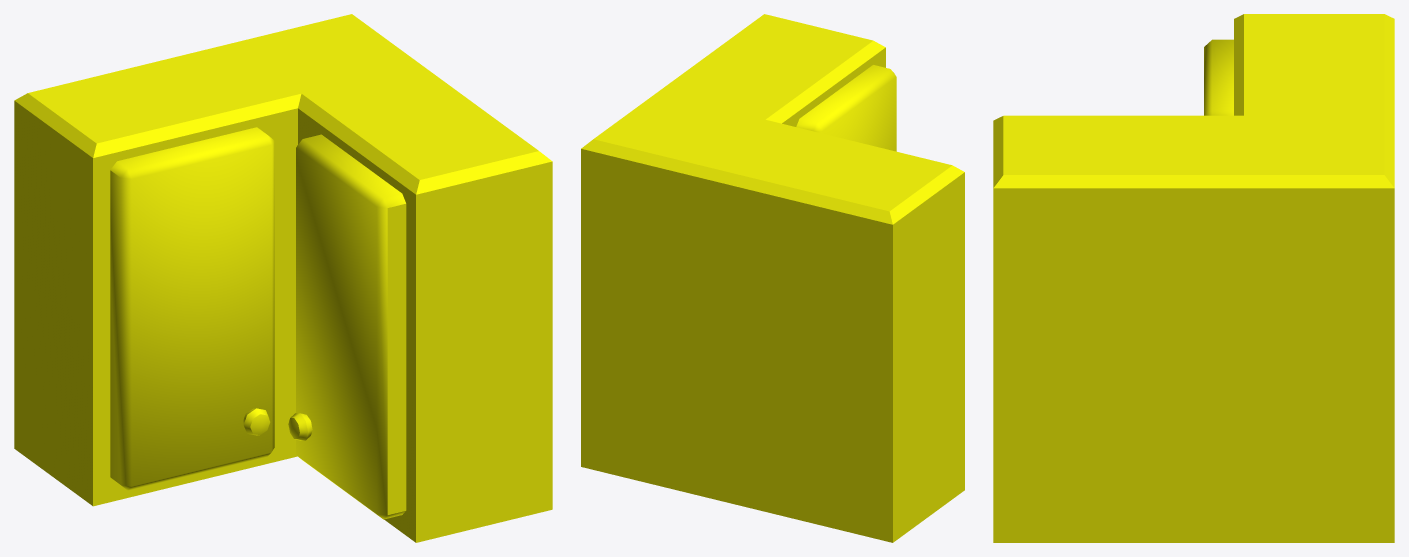
Rendered from kaykit-kitchencabinet-corner.glb.
3 views of the same model, side by side, from view 1: azimuth 30°, elevation 25°; view 2: azimuth 150°, elevation 25°; view 3: azimuth 270°, elevation 25° (orthographic). The views are drawn at different scales.
Visible parts, largest first — view 1: kitchencabinet_corner; view 2: kitchencabinet_corner; view 3: kitchencabinet_corner.
Boxes of the visible parts, x1,y1,x2,y2 form: kitchencabinet_corner: [14, 14, 552, 542]; kitchencabinet_corner: [581, 14, 964, 542]; kitchencabinet_corner: [993, 14, 1394, 542].
Bounding box in the file's own units: 2 × 2 × 2.
